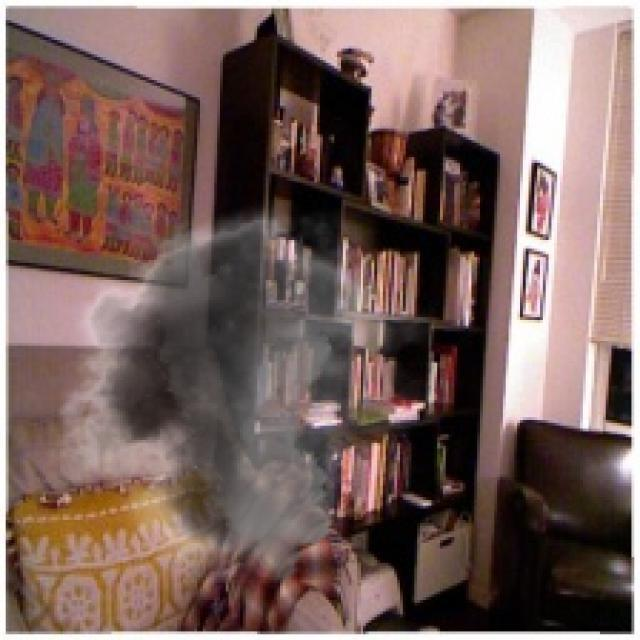Smoke: (37, 188, 437, 583)
